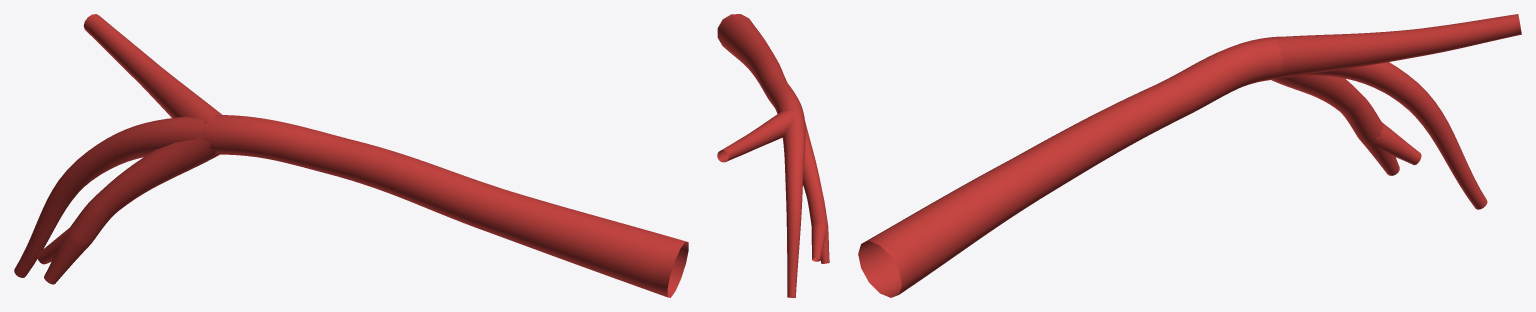
3 views of the same model, side by side, from view 1: azimuth 30°, elevation 25°; view 2: azimuth 150°, elevation 25°; view 3: azimuth 270°, elevation 25° (orthographic). The views are drawn at different scales.
Parts seen in each view (by area): view 1: 右肺前底段动脉; view 2: 右肺前底段动脉; view 3: 右肺前底段动脉.
Part boxes in pixels (x1=…): 右肺前底段动脉: x1=14, y1=14, x2=688, y2=297; 右肺前底段动脉: x1=717, y1=14, x2=829, y2=297; 右肺前底段动脉: x1=858, y1=14, x2=1521, y2=297.
Size of the model in its own units: 0.1034 by 0.0547 by 0.1373.
